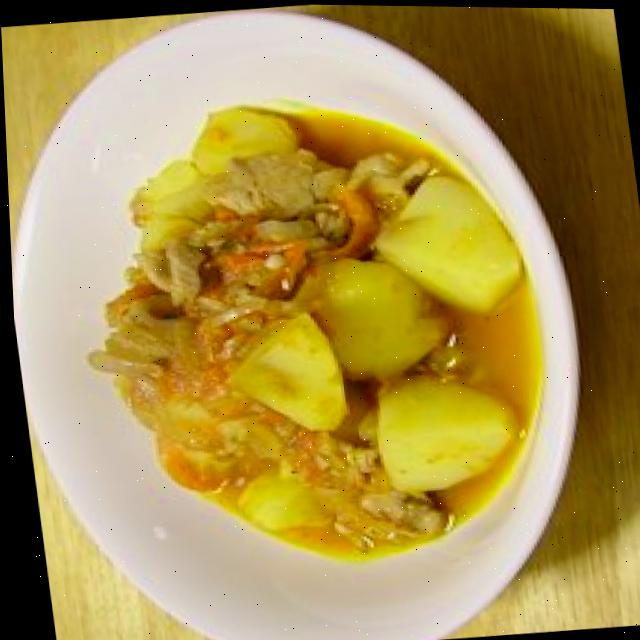牛肉菜式: (0, 0, 617, 640)
